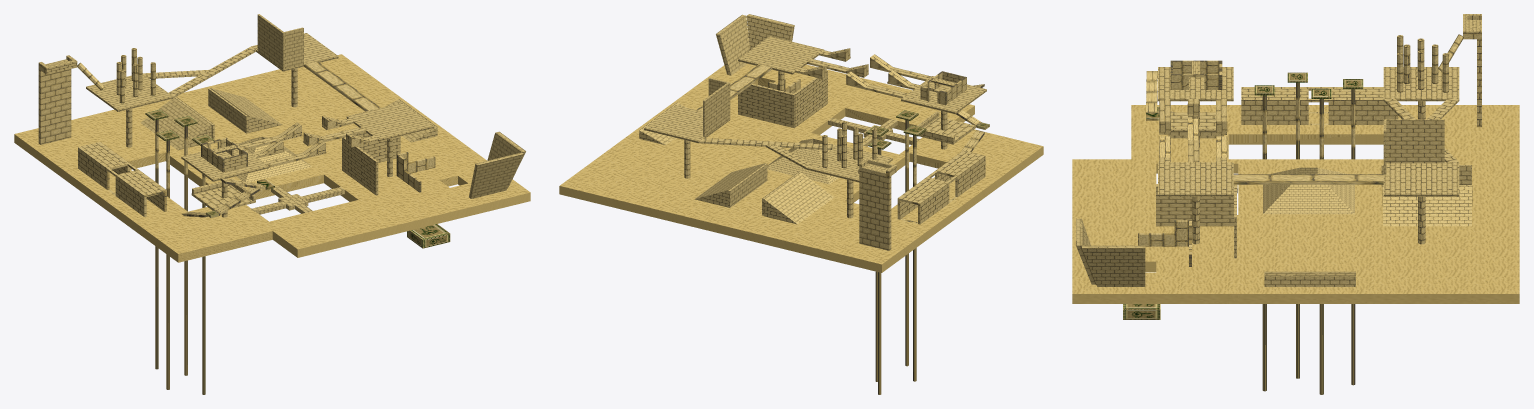
The model's file is map.obj.
The picture shows the model from 3 angles, left to right: view 1: azimuth 30°, elevation 25°; view 2: azimuth 150°, elevation 25°; view 3: azimuth 270°, elevation 25°; orthographic projection. The views are drawn at different scales.
Parts seen in each view (by area): view 1: Cube.024, Cube.023, Cube.022, Plane.001, Cube.011, Cube.019, Plane.006, Plane.029, Plane.009, Cube.018, Plane.004, Cube (+16 smaller); view 2: Cube.024, Cube.023, Cube.022, Cube.011, Plane.031, Plane.001, Plane.002, Cube.020, Plane.009, Cube, Plane.006, Plane.029 (+12 smaller); view 3: Cube.024, Cube.023, Cube, Cube.010, Plane.004, Plane.001, Plane.002, Cube.020, Plane.029, Plane.006, Plane.003, Plane.009 (+14 smaller).
Part boxes in pixels (<box>): Cube.024: <box>14,54,530,262</box>; Cube.023: <box>78,141,166,216</box>; Cube.022: <box>38,55,77,144</box>; Plane.001: <box>346,103,434,141</box>; Cube.011: <box>140,98,211,150</box>; Cube.019: <box>469,152,523,198</box>; Plane.006: <box>86,74,173,111</box>; Plane.029: <box>343,137,378,195</box>; Plane.009: <box>181,143,268,181</box>; Cube.018: <box>251,186,344,214</box>; Plane.004: <box>257,14,285,69</box>; Cube: <box>236,136,312,182</box>; Cube.024: <box>559,64,1043,272</box>; Cube.023: <box>897,150,985,224</box>; Cube.022: <box>859,158,896,250</box>; Cube.011: <box>764,172,834,224</box>; Plane.031: <box>738,84,795,128</box>; Plane.001: <box>738,36,823,74</box>; Plane.002: <box>644,105,730,143</box>; Cube.020: <box>716,14,749,75</box>; Plane.009: <box>901,76,986,114</box>; Cube: <box>767,138,838,184</box>; Plane.006: <box>807,146,892,182</box>; Plane.029: <box>794,70,827,127</box>; Cube.024: <box>1072,105,1519,303</box>; Cube.023: <box>1241,87,1398,124</box>; Cube: <box>1263,167,1354,214</box>; Cube.010: <box>1383,186,1471,226</box>; Plane.004: <box>1383,119,1444,163</box>; Plane.001: <box>1158,162,1233,196</box>; Plane.002: <box>1383,162,1459,196</box>; Cube.020: <box>1082,245,1145,286</box>; Plane.029: <box>1156,185,1234,226</box>; Plane.006: <box>1383,67,1459,101</box>; Plane.003: <box>1233,174,1383,184</box>; Plane.009: <box>1158,67,1233,101</box>.
Size of the model in its own units: 79.22 by 67.63 by 79.22.
